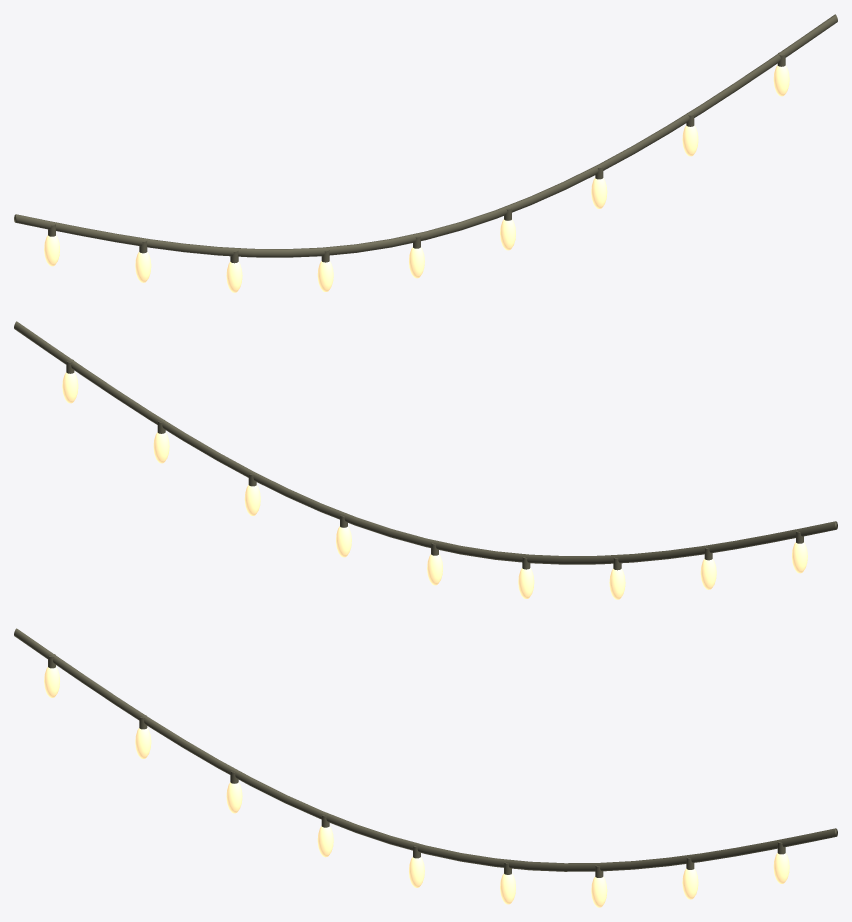
Rendered from fairylights.glb.
3 renders of one model, top to bottom at view 1: azimuth 30°, elevation 25°; view 2: azimuth 150°, elevation 25°; view 3: azimuth 330°, elevation 25°, orthographic.
Visible parts, largest first — view 1: fairy-continuous-cable; view 2: fairy-continuous-cable; view 3: fairy-continuous-cable.
Part boxes in pixels (box(x1,y1,x2,y2)): fairy-continuous-cable: box(14, 14, 837, 257); fairy-continuous-cable: box(14, 321, 837, 564); fairy-continuous-cable: box(14, 628, 837, 871).
Size of the model in its own units: 1.88 by 0.3536 by 0.032.
